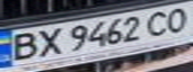2: (121, 12, 148, 43)
4: (87, 18, 112, 48)
6: (106, 16, 127, 47)
9: (63, 21, 90, 54)
B: (3, 29, 42, 63)
C: (139, 8, 175, 37)
O: (160, 4, 193, 34)
X: (30, 26, 66, 59)
